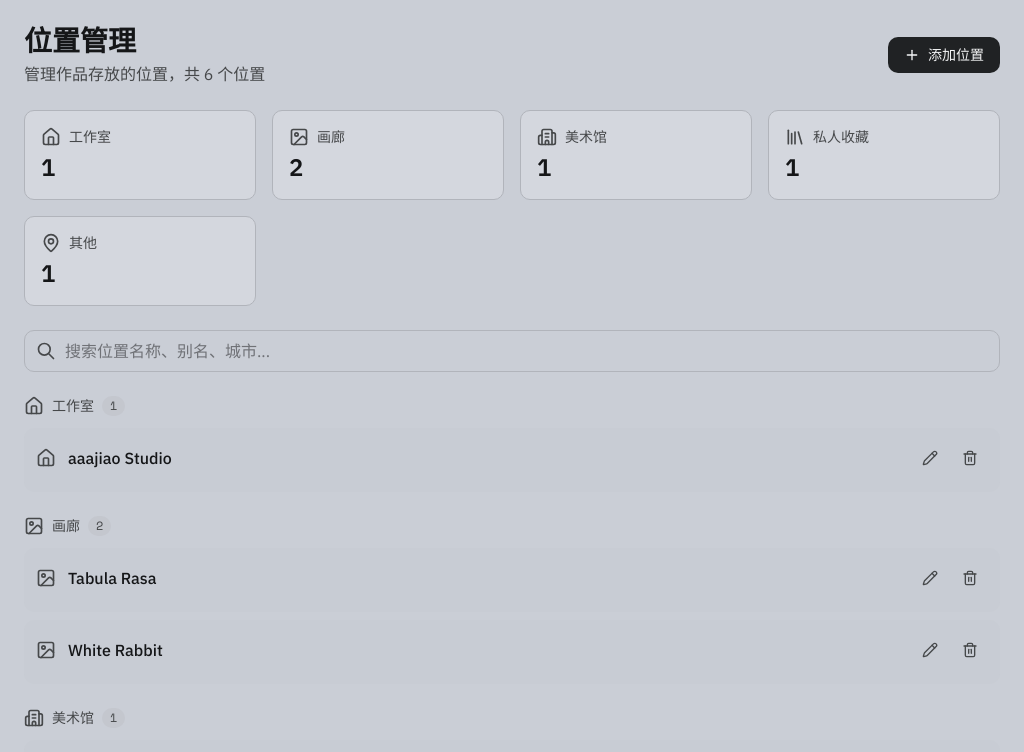
it: Locations 页面 — 顶部分类卡 filter › 点"画廊"chip → 只渲染 gallery section，chip aria-pressed=true
Click the button "画廊 2".
click(388, 155)  # box [272,110,504,200]
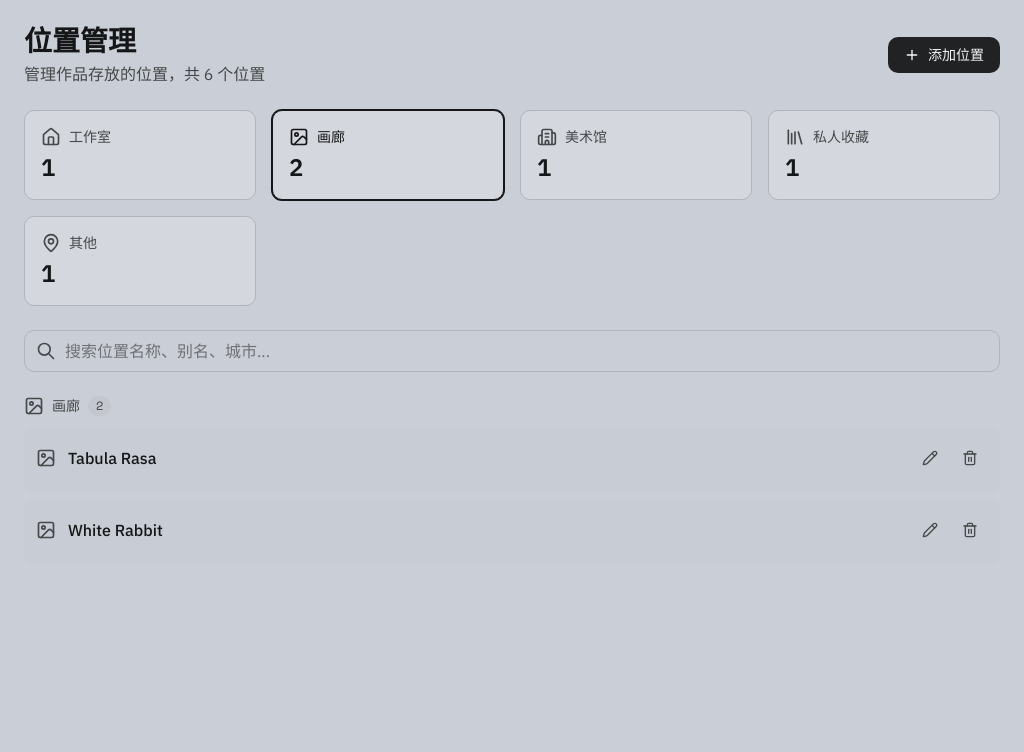
Check: the text "Tabula Rasa" is shown, box [68,448,157,468]
Check: the text "aaajiao Studio" is gone
